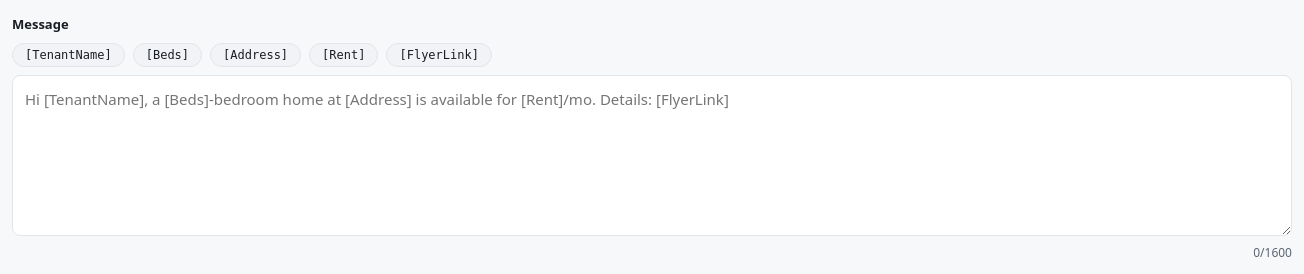
Scenario: MessageEditor — merge-field chips › exposes a chip for every merge field and inserts its token at the caret
Expected: the button "[Beds]" is shown, left=133, top=42, right=202, bottom=66
Expected: the button "[Address]" is shown, left=210, top=42, right=301, bottom=66
Click the button "[TenantName]": (68, 54) left=12, top=42, right=125, bottom=66
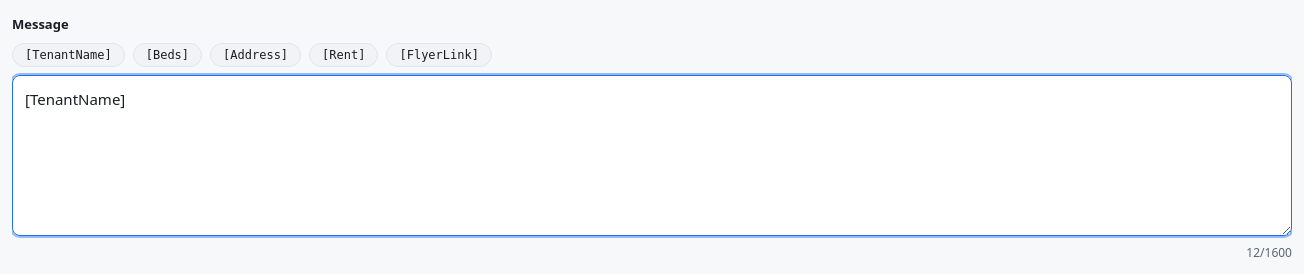
Now the text box labelled "Message" holds "[TenantName]", box left=12, top=74, right=1292, bottom=236
// A second chip appends after the caret (which is placed after the first token).
Click the button "[Beds]": (167, 54) left=133, top=42, right=202, bottom=66
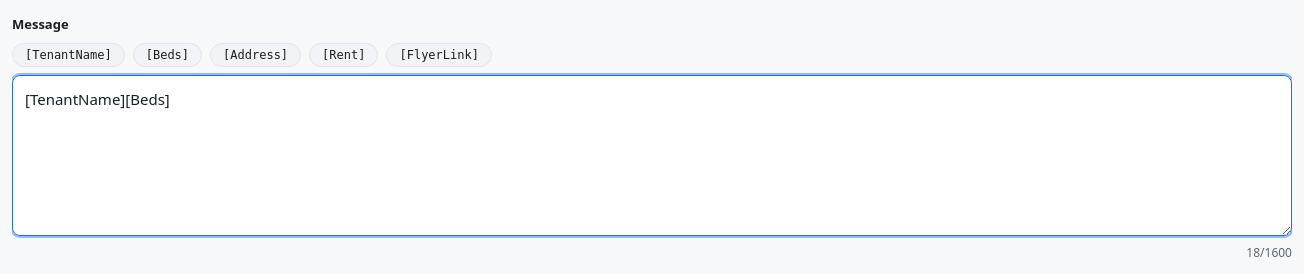
Now the text box labelled "Message" holds "[TenantName][Beds]", box left=12, top=74, right=1292, bottom=236
